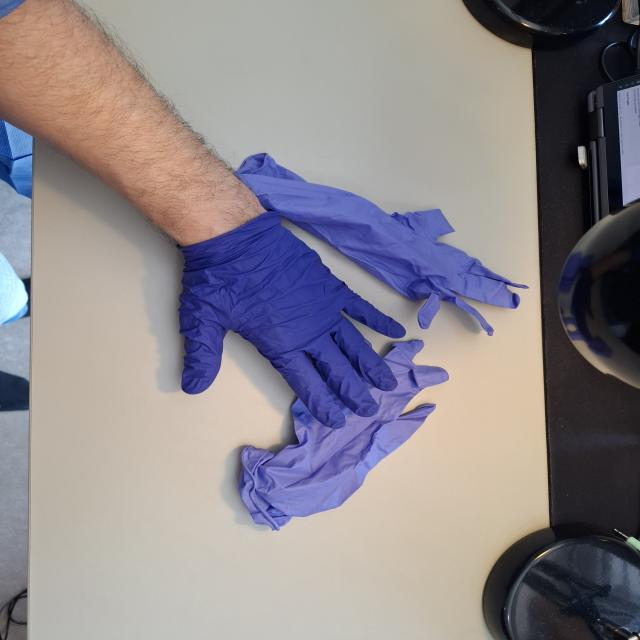glove_on: (173, 212, 408, 430)
